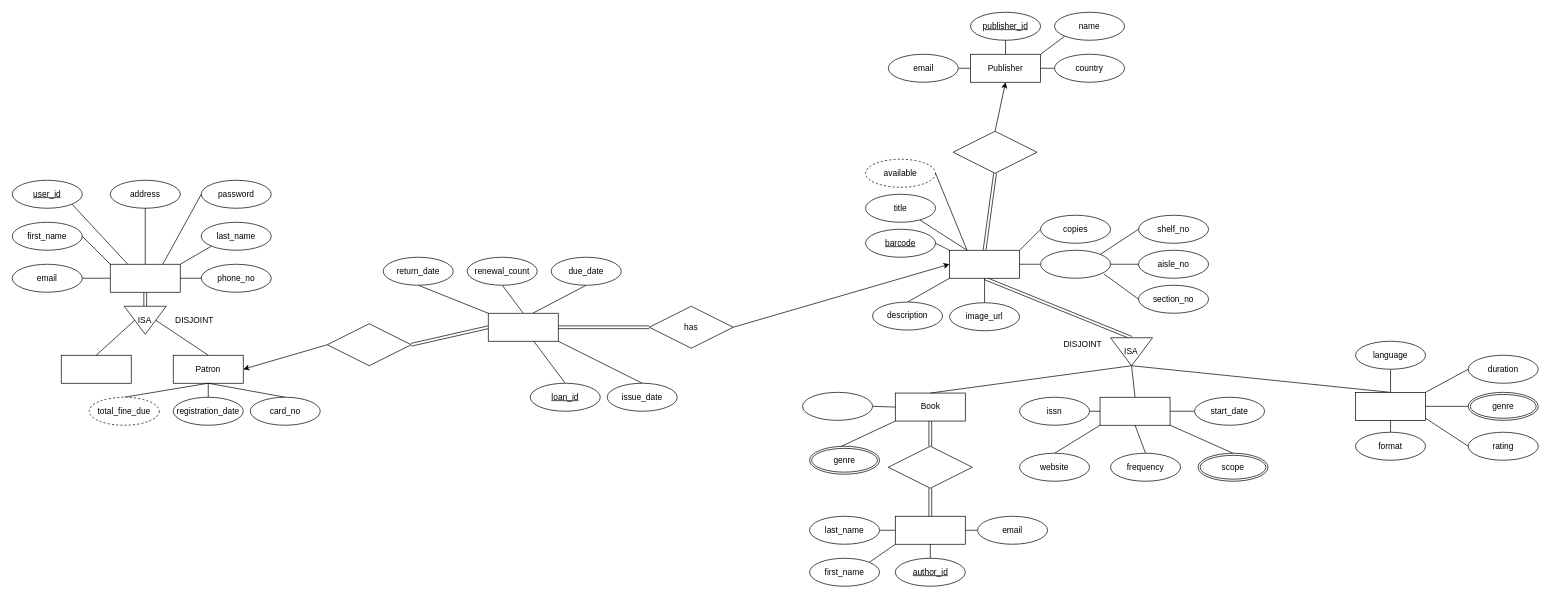
The diagram is 1551 pixels wide and 599 high, and some of its shapes have lost their labels. Each missing label, with the box of its shape:
Author: (895, 516, 965, 544)
create: (327, 323, 411, 366)
isbn: (802, 392, 873, 420)
Jounal: (1099, 397, 1170, 425)
Librarian: (61, 355, 131, 383)
Loan: (488, 313, 558, 341)
location: (1040, 250, 1111, 278)
Material: (949, 250, 1020, 278)
publish: (952, 131, 1037, 173)
User: (110, 264, 180, 292)
Video: (1355, 392, 1426, 420)
write: (888, 446, 972, 488)
